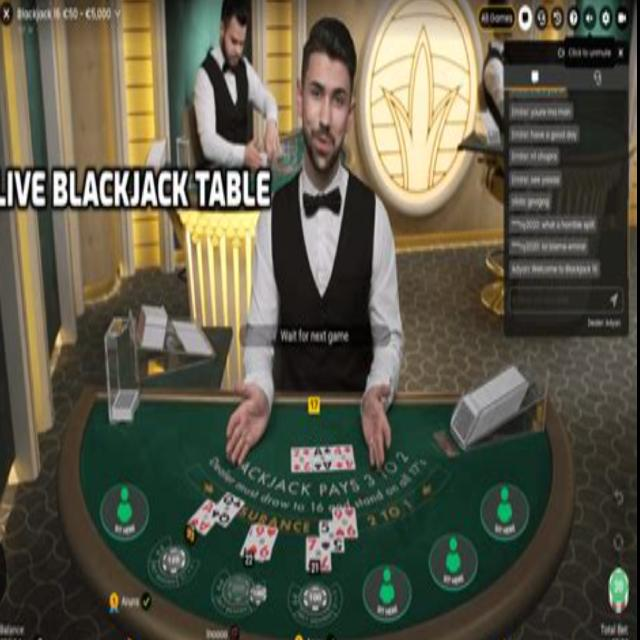Card-5: (320, 516, 343, 551)
Card-7: (305, 537, 330, 570)
Card-9: (241, 521, 277, 561), (333, 506, 357, 539)
Card-A: (188, 496, 216, 534), (332, 445, 355, 469), (313, 447, 331, 470)
Card-J: (291, 444, 312, 471)
Card-Q: (211, 489, 244, 529)
